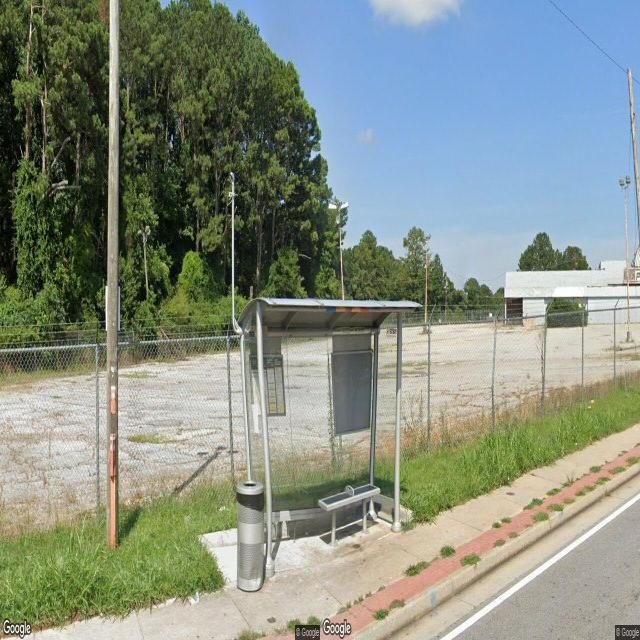seating: (316, 480, 381, 551)
shelter: (235, 296, 423, 566)
trash_can: (236, 481, 264, 594)
